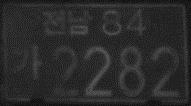0: (41, 7, 93, 35)
2: (149, 44, 181, 98), (49, 45, 80, 96), (84, 45, 113, 95)
4: (126, 8, 148, 37)
8: (118, 45, 146, 98), (101, 9, 122, 36)
가: (9, 43, 42, 80)
